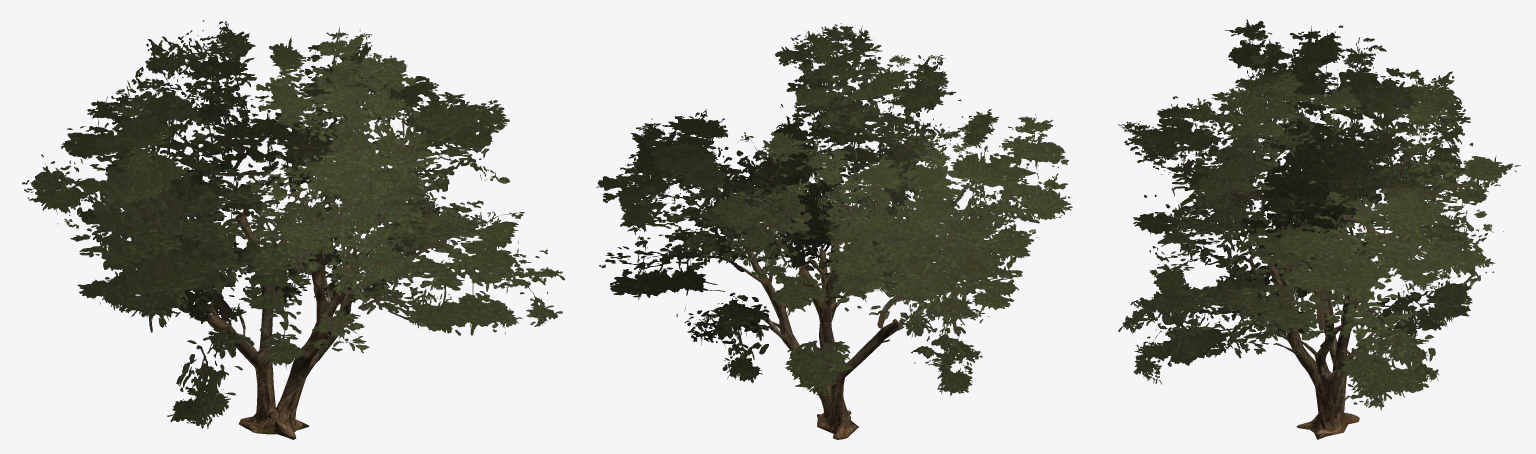
File: jacaranda.glb
3 views of the same model, side by side, from view 1: azimuth 30°, elevation 25°; view 2: azimuth 150°, elevation 25°; view 3: azimuth 270°, elevation 25° (orthographic). The views are drawn at different scales.
Visible parts, largest first — view 1: foliage, jacaranda_tree_LOD0 (×2); view 2: foliage, jacaranda_tree_LOD0 (×2); view 3: foliage, jacaranda_tree_LOD0 (×2).
Part boxes in pixels (left/top/right/bottom): foliage: left=22, top=20, right=564, bottom=428; jacaranda_tree_LOD0 (×2): left=206, top=212, right=381, bottom=439; foliage: left=596, top=23, right=1072, bottom=396; jacaranda_tree_LOD0 (×2): left=740, top=209, right=898, bottom=439; foliage: left=1117, top=19, right=1520, bottom=410; jacaranda_tree_LOD0 (×2): left=1267, top=258, right=1395, bottom=439.
Size of the model in its own units: 24.46 by 19.6 by 19.32.
2 materials, 2 textured.
